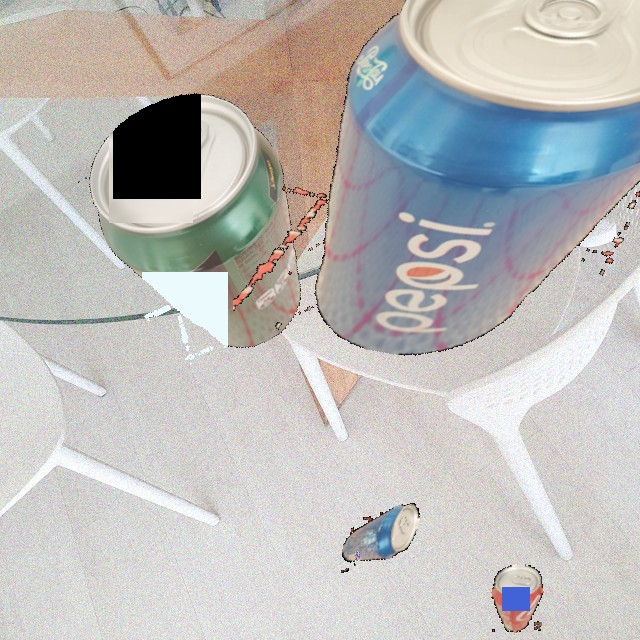coca cola: (483, 558, 553, 639)
pepsi: (233, 0, 640, 481), (338, 499, 422, 573)
schweppes: (69, 74, 326, 370)
